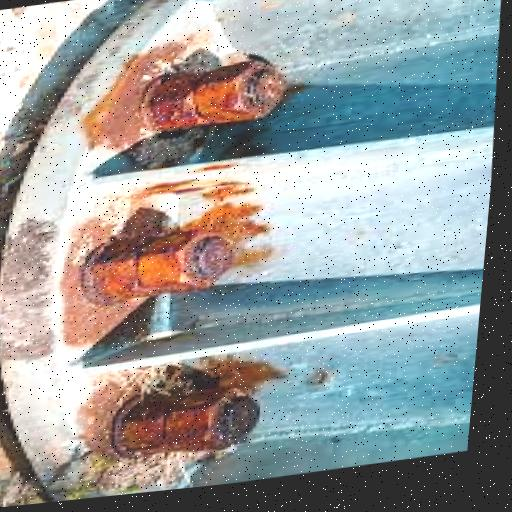corrosion: (130, 38, 296, 140), (76, 215, 248, 310), (108, 374, 266, 473), (242, 0, 405, 1)
